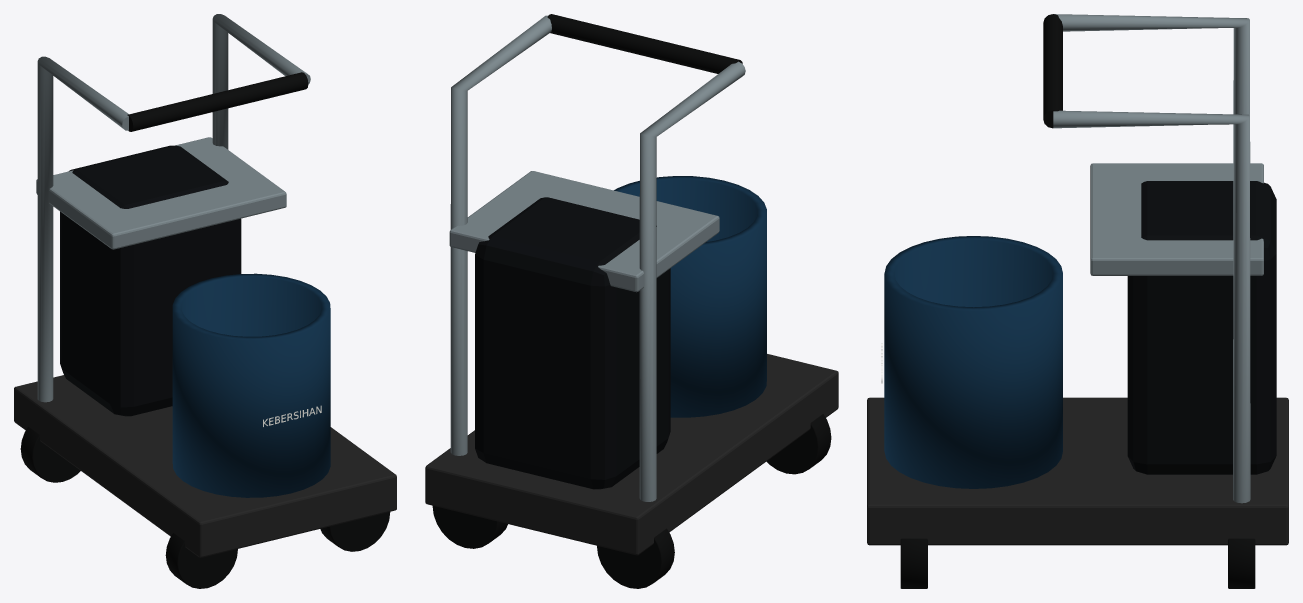
The model's file is OAA_Cleaning_Trolley.fbx.
3 renders of one model, left to right at view 1: azimuth 30°, elevation 25°; view 2: azimuth 150°, elevation 25°; view 3: azimuth 270°, elevation 25°, orthographic. The views are drawn at different scales.
Visible parts, largest first — view 1: Body; view 2: Body; view 3: Body.
Part boxes in pixels (x1,y1,x2,y2): Body: (14,14,396,588); Body: (425,14,838,588); Body: (867,14,1288,588).
Size of the model in its own units: 0.56 by 1.07 by 0.85.
